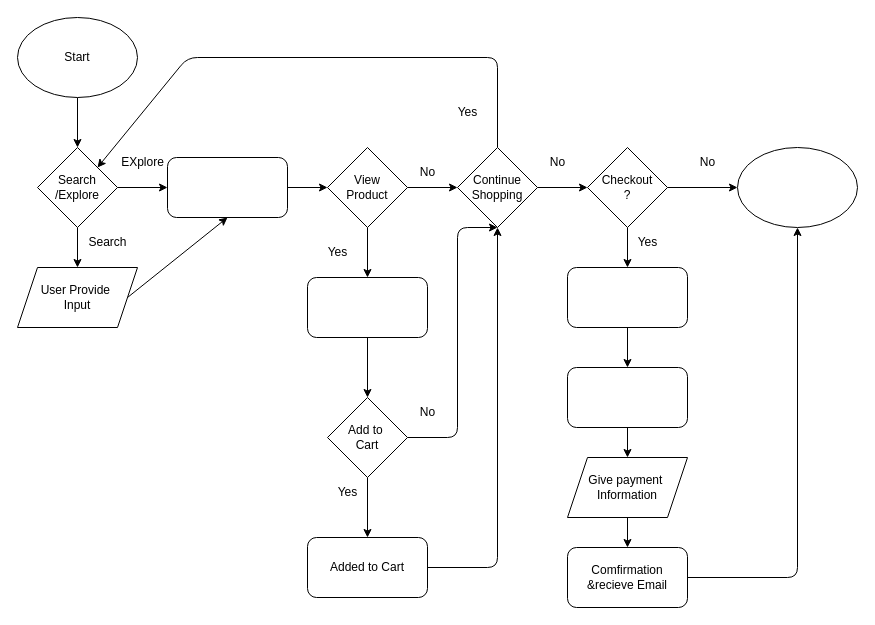
Some shapes in this 875 by 625 pixel diagram are drawn without their labels. Here are the shapes that lost their labels. From the top down, the box of each, then its label:
(166, 156, 288, 218): Looking Over Porducts
(736, 146, 858, 228): Leave Website
(306, 276, 428, 338): open product website
(566, 266, 688, 328): View Cart Screen
(566, 366, 688, 428): View Payment Screen
